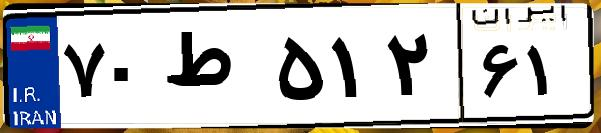0: (110, 28, 158, 98)
1: (330, 28, 385, 110), (525, 38, 570, 115)
2: (385, 28, 445, 110)
5: (270, 28, 330, 110)
6: (475, 38, 525, 113)
7: (57, 26, 110, 100)
ط: (158, 20, 270, 120)
